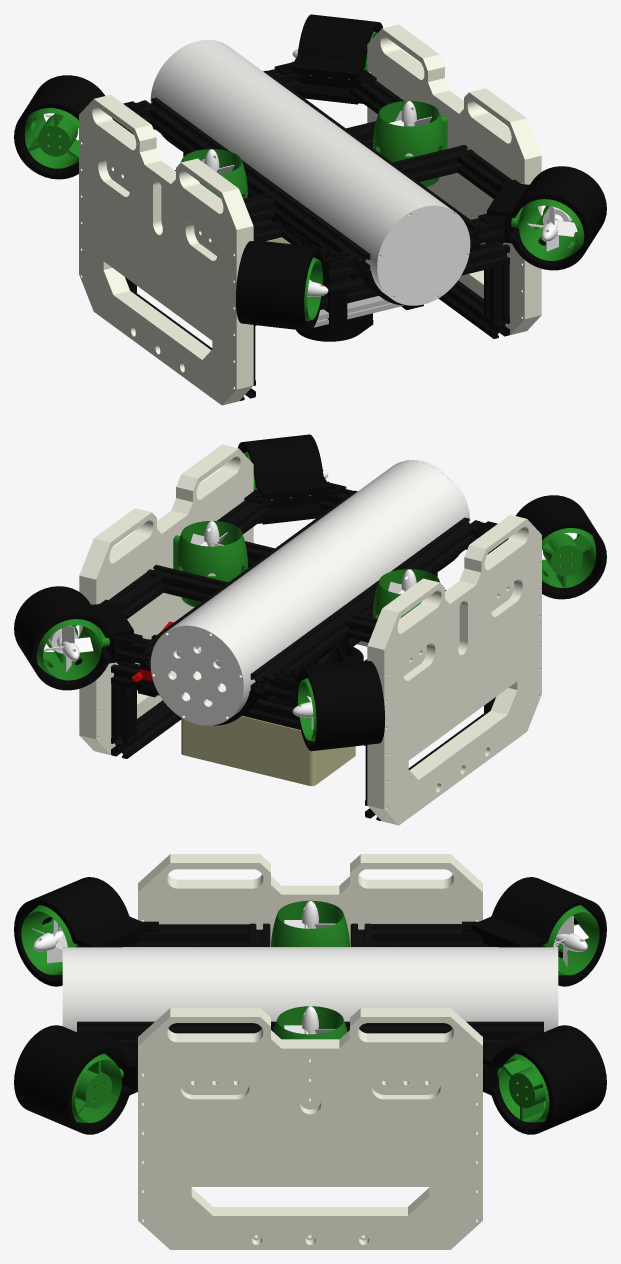
The model's file is MARVIC-GNR 2.glb.
3 views of the same model, one above another, from view 1: azimuth 30°, elevation 25°; view 2: azimuth 150°, elevation 25°; view 3: azimuth 270°, elevation 25° (orthographic). The views are drawn at different scales.
Visible parts, largest first — view 1: Body1_59, Body1_5, Body1_60, Body1_6, Body1_52, Body1, Body1_55, Body1_61, Body1_54, Body1_93, Body1_53, Body1_58 (+20 smaller); view 2: Body1_59, Body1_5, Body1_60, Body1_7, Body1_53, Body1_50, Body1_54, Body1, Body1_61, Body1_55, Body1_93, Body1_52 (+20 smaller); view 3: Body1_58, Body1_5, Body1_61, Body1_60, Body1_54, Body1_55, Body1_52, Body1_53, Body1_12, Body1_59, Body1_91, Body1_2 (+12 smaller).
Boxes of the visible parts, <box> form: Body1_59: <box>79,97,244,405</box>; Body1_5: <box>153,41,450,295</box>; Body1_60: <box>367,26,533,334</box>; Body1_6: <box>374,204,470,305</box>; Body1_52: <box>235,241,330,331</box>; Body1: <box>140,97,370,274</box>; Body1_55: <box>487,166,606,270</box>; Body1_61: <box>100,94,253,403</box>; Body1_54: <box>290,14,382,104</box>; Body1_93: <box>373,101,447,187</box>; Body1_53: <box>14,75,133,179</box>; Body1_58: <box>389,24,541,332</box>; Body1_59: <box>376,517,541,825</box>; Body1_5: <box>170,461,467,715</box>; Body1_60: <box>87,446,253,754</box>; Body1_7: <box>150,624,246,725</box>; Body1_53: <box>290,661,385,751</box>; Body1_50: <box>181,716,355,777</box>; Body1_54: <box>14,586,133,690</box>; Body1: <box>250,517,480,694</box>; Body1_61: <box>367,514,520,823</box>; Body1_55: <box>238,434,330,524</box>; Body1_93: <box>173,521,247,607</box>; Body1_52: <box>487,495,606,599</box>; Body1_58: <box>138,1012,482,1249</box>; Body1_5: <box>68,947,552,1032</box>; Body1_61: <box>138,858,482,946</box>; Body1_60: <box>138,1008,482,1240</box>; Body1_54: <box>483,1025,606,1134</box>; Body1_55: <box>14,1025,137,1134</box>; Body1_52: <box>14,877,149,986</box>; Body1_53: <box>471,877,606,986</box>; Body1_12: <box>77,1021,543,1048</box>; Body1_59: <box>138,854,482,889</box>; Body1_91: <box>271,900,349,946</box>; Body1_2: <box>372,924,483,946</box>.
Bounding box in the file's own units: 438 × 240 × 554.
